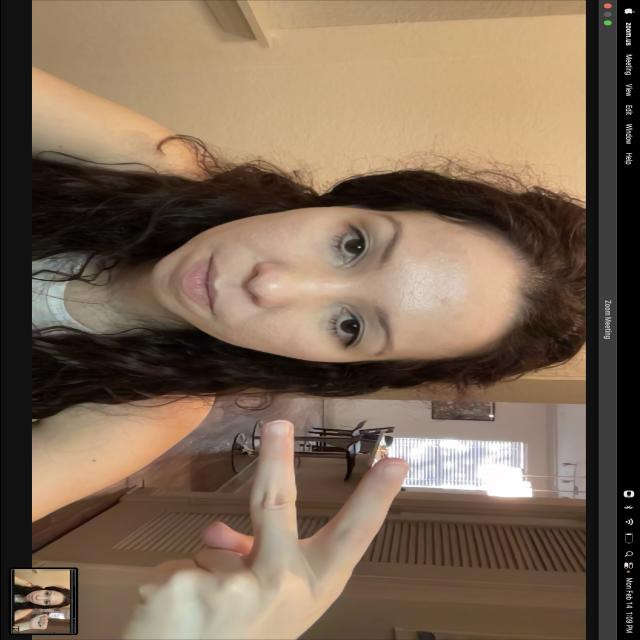Scissors: (118, 416, 442, 640)
